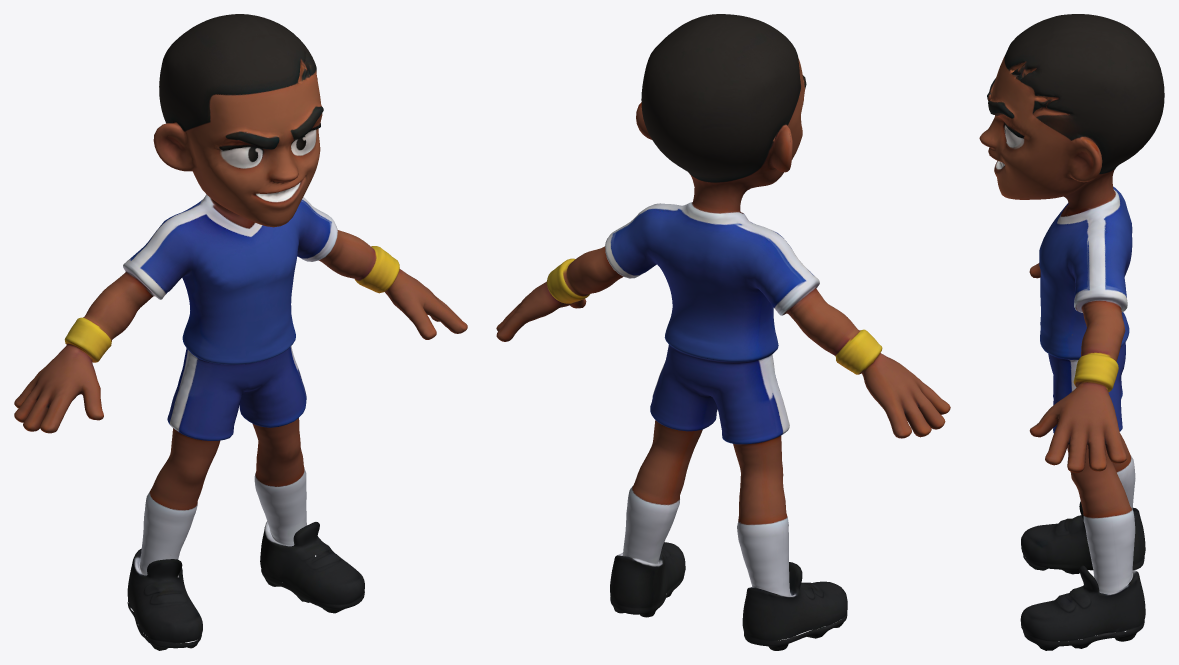
File: turbo.glb
3 views of the same model, side by side, from view 1: azimuth 30°, elevation 25°; view 2: azimuth 150°, elevation 25°; view 3: azimuth 270°, elevation 25° (orthographic).
Parts seen in each view (by area): view 1: turbo; view 2: turbo; view 3: turbo.
Boxes of the visible parts, x1,y1,x2,y2 form: turbo: (14, 14, 467, 650); turbo: (496, 14, 950, 650); turbo: (979, 14, 1164, 650).
Size of the model in its own units: 1.31 by 1.7 by 0.491.
1 material, 1 textured.
